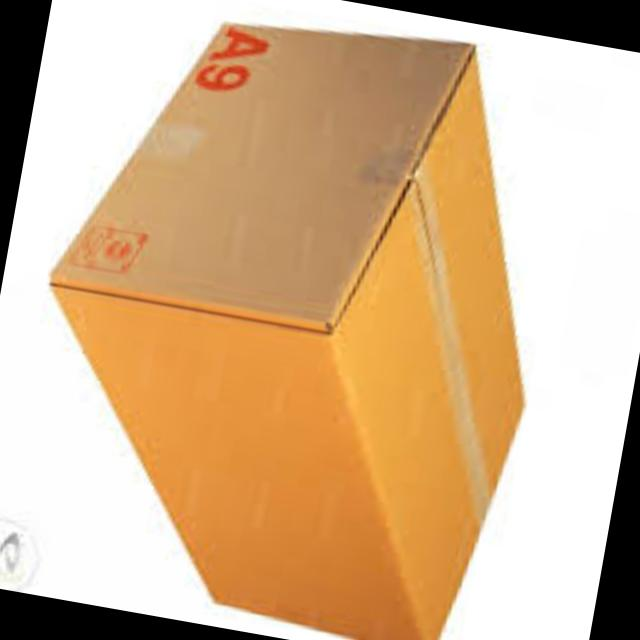cardboard paper: (61, 21, 528, 640)
